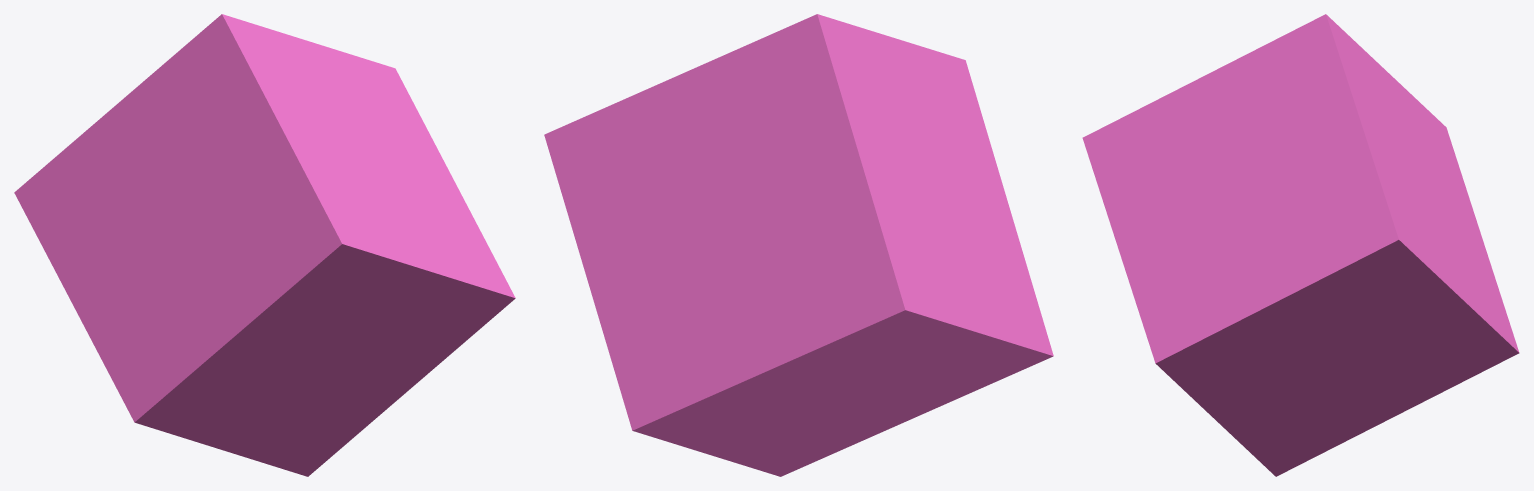
File: InfoExpo_PorqueYoEscribo.gltf
The picture shows the model from 3 angles, left to right: view 1: azimuth 30°, elevation 25°; view 2: azimuth 150°, elevation 25°; view 3: azimuth 270°, elevation 25°; orthographic projection. The views are drawn at different scales.
Visible parts, largest first — view 1: InfoExpo_PorqueYoEscribo; view 2: InfoExpo_PorqueYoEscribo; view 3: InfoExpo_PorqueYoEscribo.
Boxes of the visible parts, x1,y1,x2,y2 form: InfoExpo_PorqueYoEscribo: (14,14,515,476); InfoExpo_PorqueYoEscribo: (544,14,1053,476); InfoExpo_PorqueYoEscribo: (1082,14,1519,476).
Size of the model in its own units: 0.3044 by 0.3661 by 0.3332.
